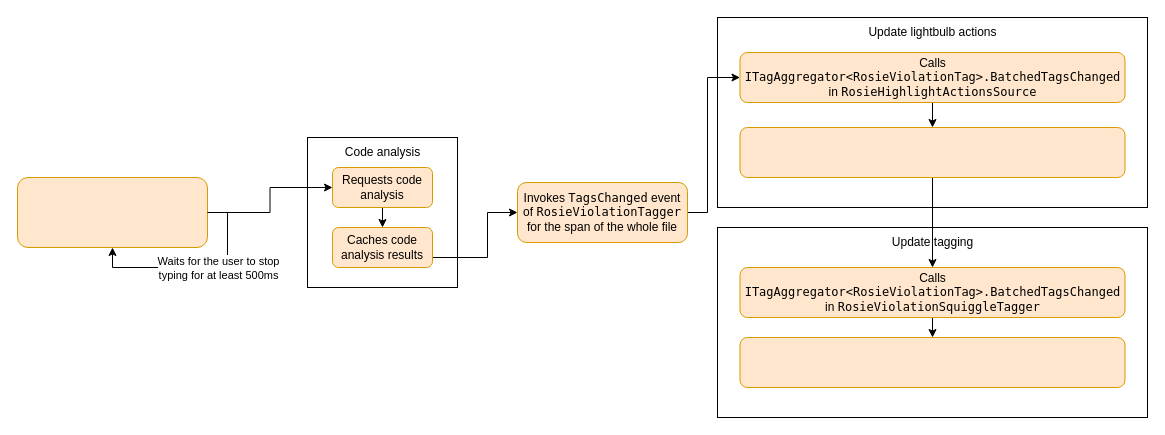
This 1165x435 diagram has some shape labels left out. The centre of each missing label's shape, as x and y in pixels:
"Calls ITextBuffer.PostChanged event handler in RosieViolationTagger" belongs at (x=112, y=212).
"Calls RosieHighlightActionsSource.SuggestedActionsChanged" belongs at (x=932, y=152).
"Calls RosieViolationSquiggleTagger.TagsChanged" belongs at (x=932, y=362).
